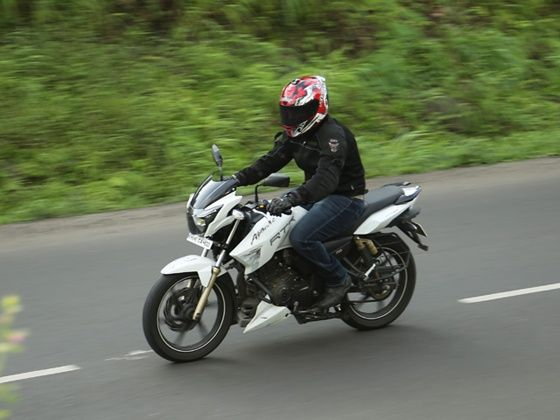helmet: (277, 70, 332, 134)
